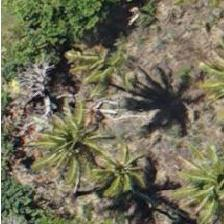coconut_tree: (71, 119, 161, 209), (10, 74, 100, 164), (58, 14, 148, 104), (169, 142, 223, 223)
